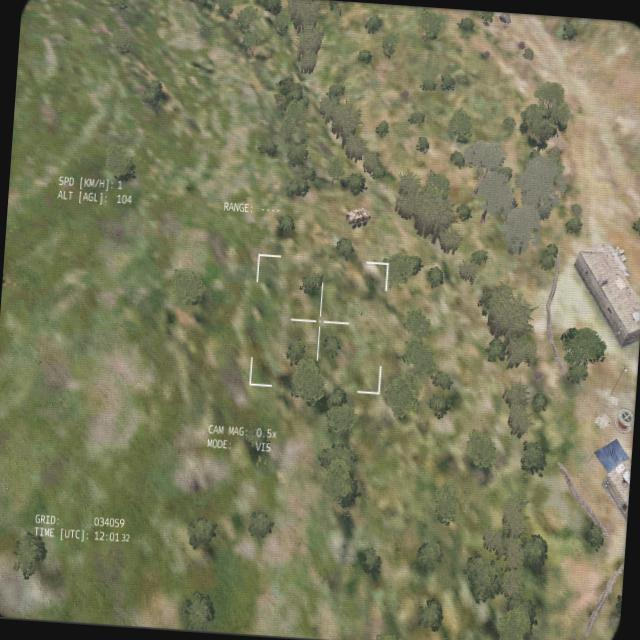apc: (344, 204, 372, 230)
